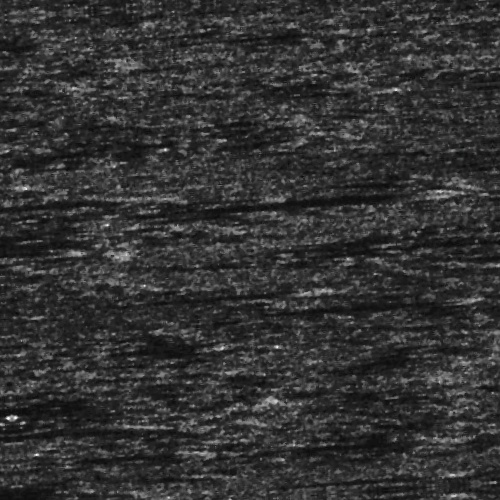object: (356, 198, 500, 211), (269, 290, 362, 299), (94, 411, 157, 422), (154, 338, 227, 347), (126, 441, 179, 450), (430, 309, 471, 318), (359, 94, 422, 99), (99, 186, 152, 191), (186, 365, 227, 370), (408, 482, 449, 487), (0, 393, 21, 400), (337, 29, 348, 42)
shadow: (177, 198, 434, 211), (292, 251, 500, 262), (101, 290, 315, 299), (247, 309, 450, 318), (0, 411, 125, 422), (0, 441, 152, 450), (231, 482, 428, 487), (83, 338, 190, 347), (377, 493, 500, 500), (46, 365, 206, 370), (288, 29, 342, 42), (0, 186, 125, 191), (284, 94, 390, 99)
